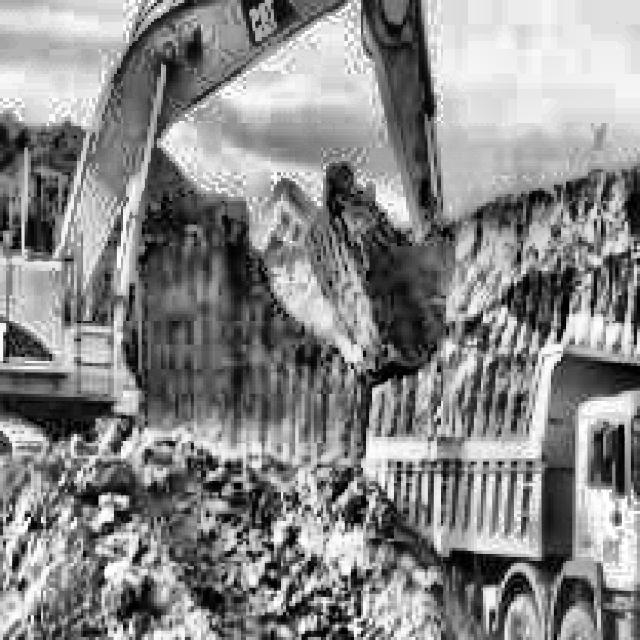dump_truck: (363, 323, 640, 640)
excavator: (0, 0, 452, 563)
